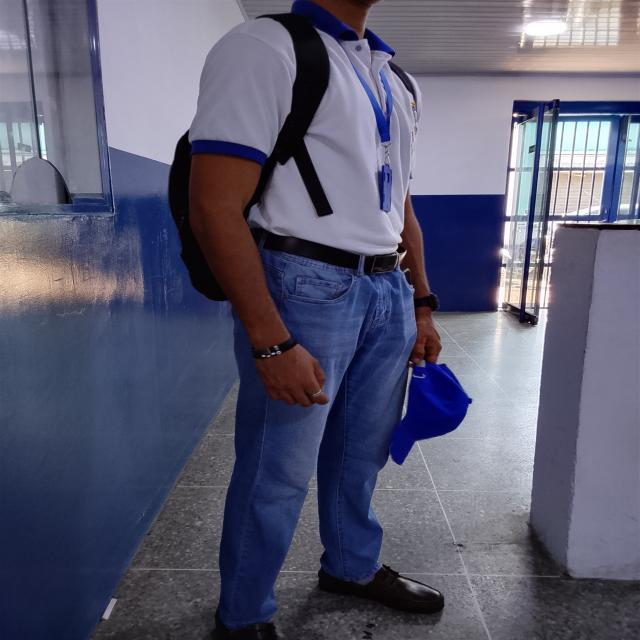carnet: (380, 165, 392, 212)
uniforme_superior: (188, 0, 424, 257)
